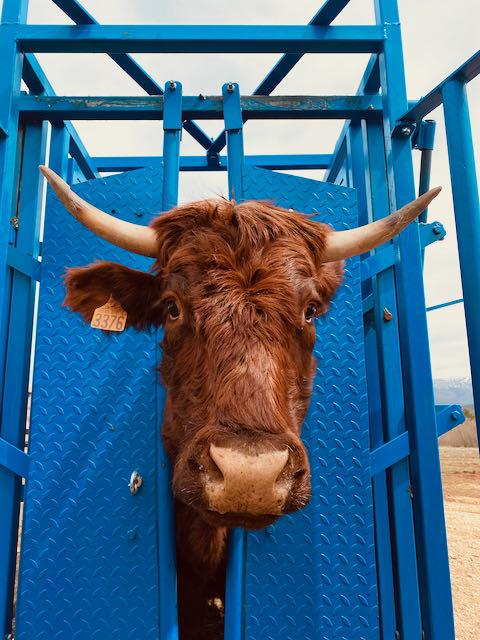muzzles: (157, 430, 313, 530)
